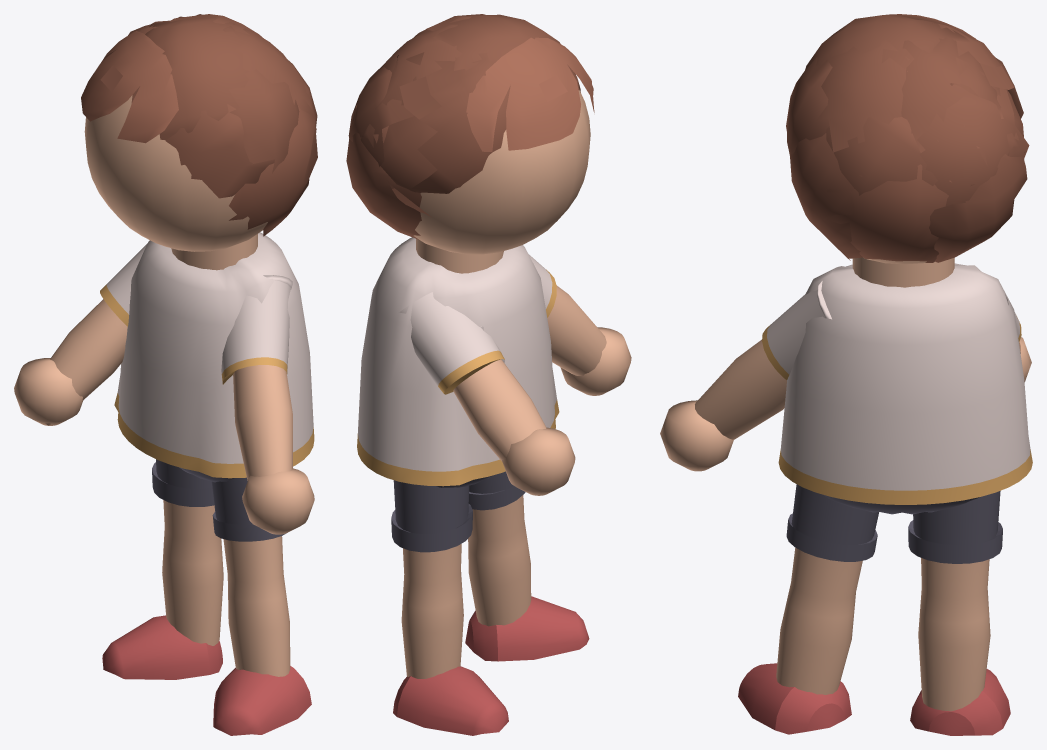
File: figurenohair.fbx
3 views of the same model, side by side, from view 1: azimuth 30°, elevation 25°; view 2: azimuth 150°, elevation 25°; view 3: azimuth 270°, elevation 25° (orthographic). The views are drawn at different scales.
Parts seen in each view (by area): view 1: polySurface96; view 2: polySurface96; view 3: polySurface96.
Boxes of the visible parts, x1,y1,x2,y2 form: polySurface96: [14, 14, 317, 735]; polySurface96: [346, 14, 631, 735]; polySurface96: [660, 14, 1032, 735].
Bounding box in the file's own units: 2.14 × 5.55 × 2.73.
